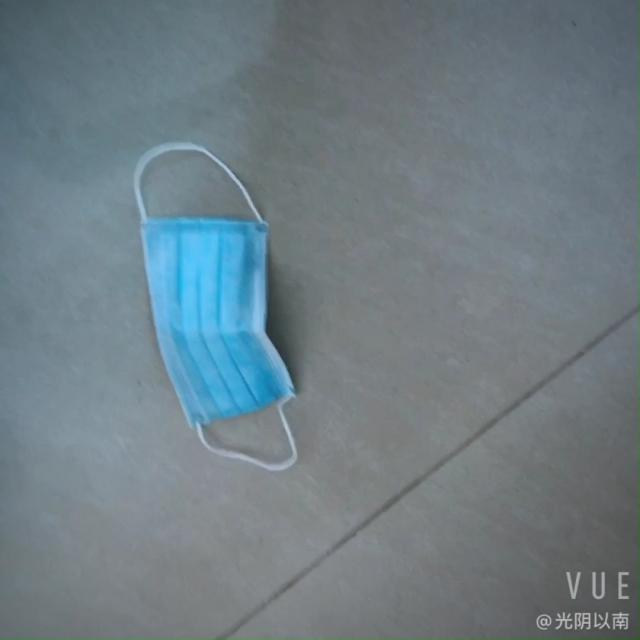non-organic waste: (123, 119, 296, 477)
